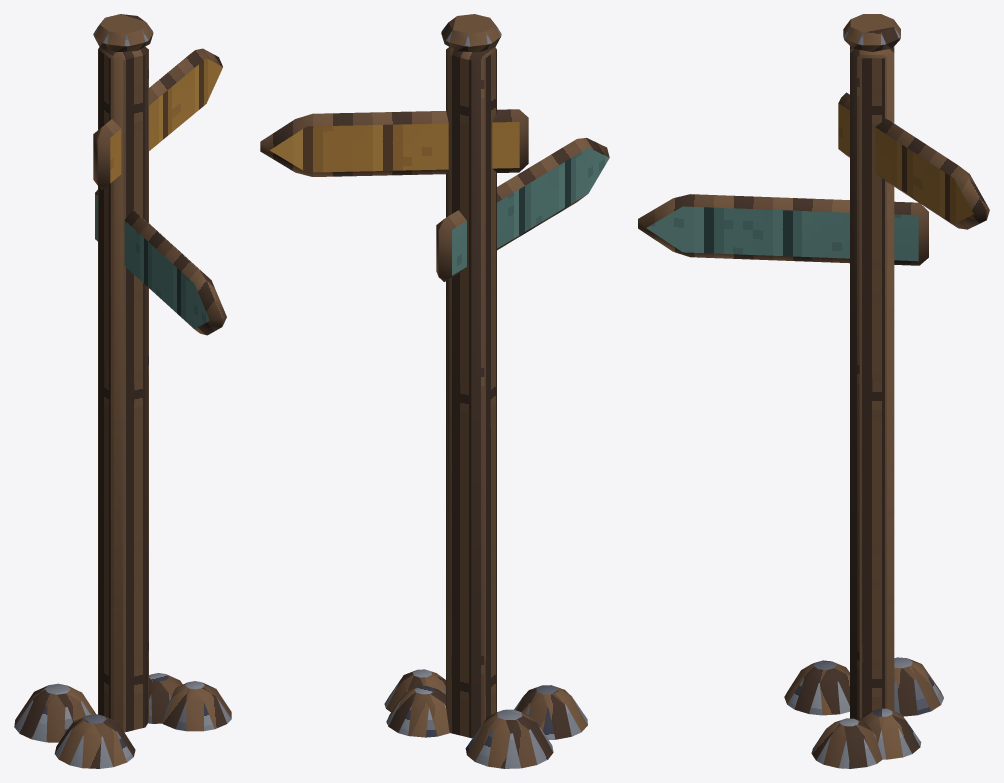
File: signpost_1.glb
3 renders of one model, left to right at view 1: azimuth 30°, elevation 25°; view 2: azimuth 150°, elevation 25°; view 3: azimuth 270°, elevation 25°, orthographic.
Parts seen in each view (by area): view 1: signpost_2; view 2: signpost_2; view 3: signpost_2.
Boxes of the visible parts, x1,y1,x2,y2 form: signpost_2: (14,14,231,768); signpost_2: (260,14,609,768); signpost_2: (638,14,989,768).
Bounding box in the file's own units: 0.8872 × 2.44 × 1.11.
6 materials, 6 textured.
